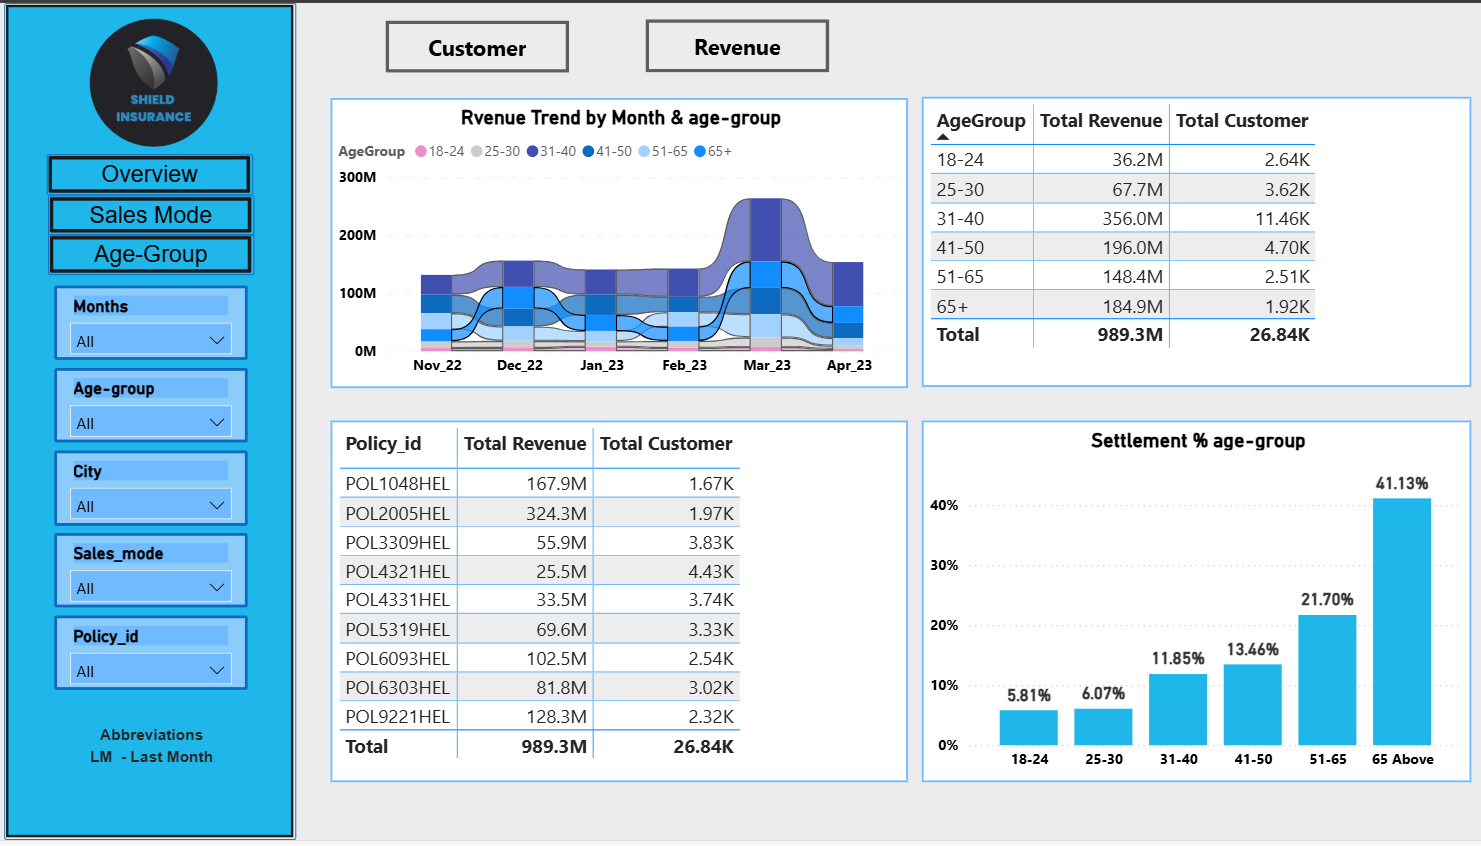

What the dashboard file says about the page in this screenshot:
{"tool":"powerbi","page":{"name":"Age-Group","canvas":[1280,720],"ordinal":3},"visuals":[{"type":"shape","box":[10,0,251,720],"z":0},{"type":"image","box":[46.5,8.6,183.4,119.8],"z":1000},{"type":"actionButton","box":[46.5,129.6,177.3,35.5],"z":2000},{"type":"actionButton","box":[47.7,165.1,177.3,34.2],"z":3000},{"type":"actionButton","box":[47.7,199.3,177.3,35.5],"z":4000},{"type":"slicer","fields":{"Values":["dim_date.mmm_yy"]},"box":[53,243,166,64],"z":5000},{"type":"slicer","fields":{"Values":["dim_customer.AgeGroup"]},"box":[53,313.8,166,64],"z":6000},{"type":"slicer","fields":{"Values":["dim_customer.city"]},"box":[53,384.5,166,65],"z":7000},{"type":"slicer","fields":{"Values":["fact_premiums.sales_mode"]},"box":[53,456.2,166,64],"z":8000},{"type":"slicer","fields":{"Values":["fact_premiums.policy_id"]},"box":[53,527,166,64],"z":9000},{"type":"textbox","box":[18.1,615.3,236.5,86.9],"z":10000},{"type":"ribbonChart","title":"Rvenue Trend by Month & age-group","fields":{"Category":["DateTable.YearMonth"],"Series":["dim_customer.AgeGroup"],"Y":["Key metrics.Total Revenue"]},"box":[290.5,81.3,496.8,249.8],"z":12000},{"type":"actionButton","title":"Customer_button_pg4","box":[338,15,158,45],"z":13000},{"type":"actionButton","title":"Revenue_button","box":[561,14.5,158,45.8],"z":14000},{"type":"tableEx","fields":{"Values":["dim_policies.policy_id","Key metrics.Total Revenue","Key metrics.Total Customer"]},"box":[290.8,359.5,497.1,311.3],"z":15000},{"type":"tableEx","fields":{"Values":["dim_customer.AgeGroup","Key metrics.Total Revenue","Key metrics.Total Customer"]},"box":[798.7,80.8,472.9,249.7],"z":16000},{"type":"clusteredColumnChart","title":"Settlement %  age-group","fields":{"Category":["fact_settlements.AgeGroup"],"Y":["Sum(fact_settlements.settlement %)"]},"box":[798.7,359.5,472.9,311.3],"z":17000}]}

Visuals, with their boxes in screenshot pixels (x1, y1, x2, y2), scaled from the page's 1280x720 canvas onto the 1481x846 screenshot:
shape: 12 0 302 845
image: 54 10 266 151
actionButton: 54 152 259 194
actionButton: 55 194 260 234
actionButton: 55 234 260 276
slicer - dim_date.mmm_yy: 61 286 253 361
slicer - dim_customer.AgeGroup: 61 369 253 444
slicer - dim_customer.city: 61 452 253 528
slicer - fact_premiums.sales_mode: 61 536 253 611
slicer - fact_premiums.policy_id: 61 619 253 694
textbox: 21 723 295 825
"Rvenue Trend by Month & age-group" ribbonChart: 336 96 911 389
"Customer_button_pg4" actionButton: 391 18 574 70
"Revenue_button" actionButton: 649 17 832 71
tableEx - dim_policies.policy_id x Key metrics.Total Revenue: 336 422 912 788
tableEx - dim_customer.AgeGroup x Key metrics.Total Revenue: 924 95 1471 388
"Settlement %  age-group" clusteredColumnChart: 924 422 1471 788
